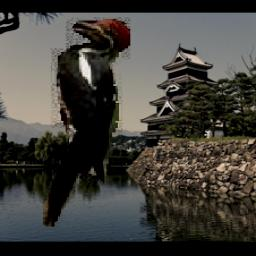Woodpecker: (44, 17, 131, 226)
